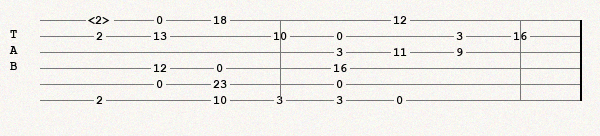0: (156, 78, 167, 90), (156, 14, 167, 26), (216, 62, 227, 74), (336, 30, 347, 42), (336, 78, 347, 90), (396, 94, 407, 106)
10: (213, 94, 231, 106), (273, 30, 291, 42)
11: (393, 46, 411, 58)
12: (153, 62, 171, 74), (393, 14, 411, 26)
13: (153, 30, 171, 42)
16: (333, 62, 351, 74), (513, 30, 531, 42)
18: (213, 14, 231, 26)
2: (96, 30, 107, 42), (96, 94, 107, 106)
23: (213, 78, 231, 90)
3: (276, 94, 287, 106), (336, 46, 347, 58), (336, 94, 347, 106), (456, 30, 467, 42)
9: (456, 46, 467, 58)
harmonic: (88, 14, 115, 26)
